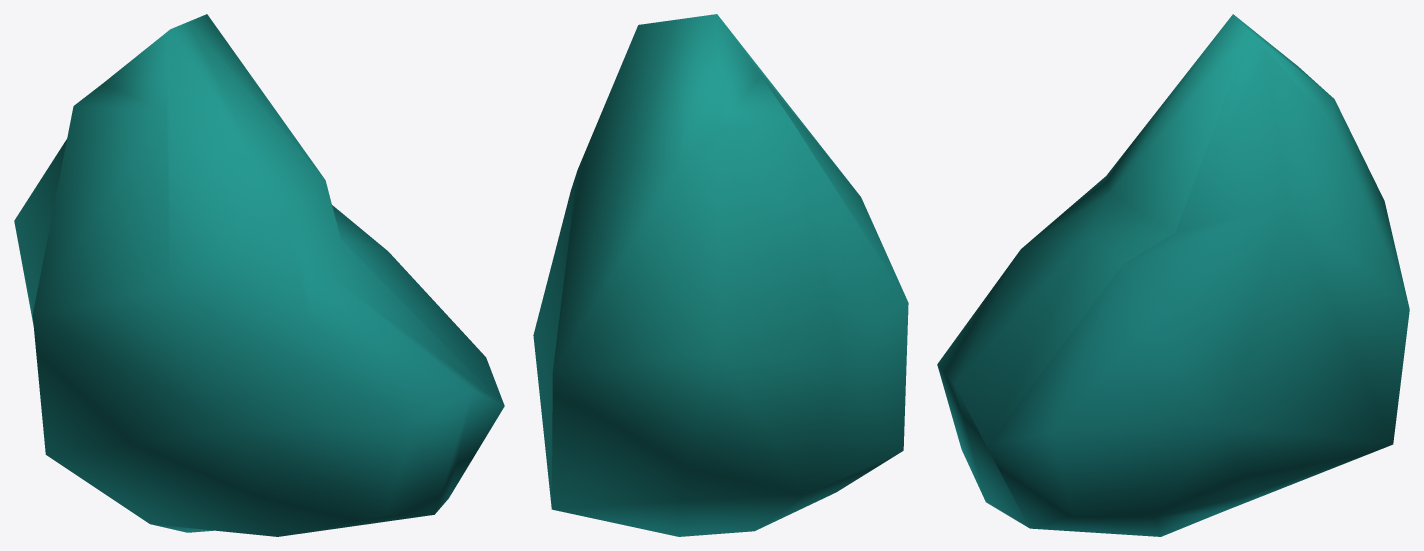
File: rock_medium.fbx
3 renders of one model, left to right at view 1: azimuth 30°, elevation 25°; view 2: azimuth 150°, elevation 25°; view 3: azimuth 270°, elevation 25°, orthographic. The views are drawn at different scales.
Parts seen in each view (by area): view 1: Cube.027; view 2: Cube.027; view 3: Cube.027.
Boxes of the visible parts, left/top/right/bottom form: Cube.027: left=14, top=14, right=504, bottom=536; Cube.027: left=533, top=14, right=908, bottom=536; Cube.027: left=937, top=14, right=1409, bottom=536.
Size of the model in its own units: 96.11 by 118 by 105.
